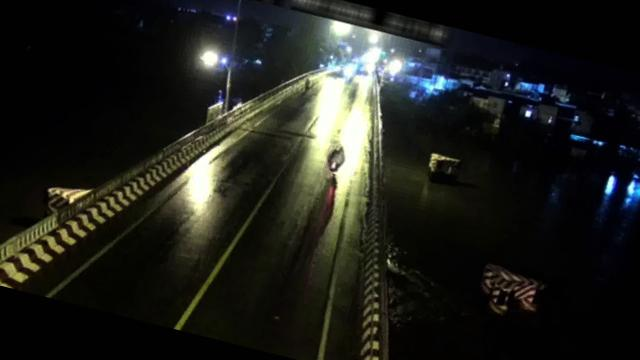Bike: (324, 142, 351, 176), (302, 74, 312, 94)
